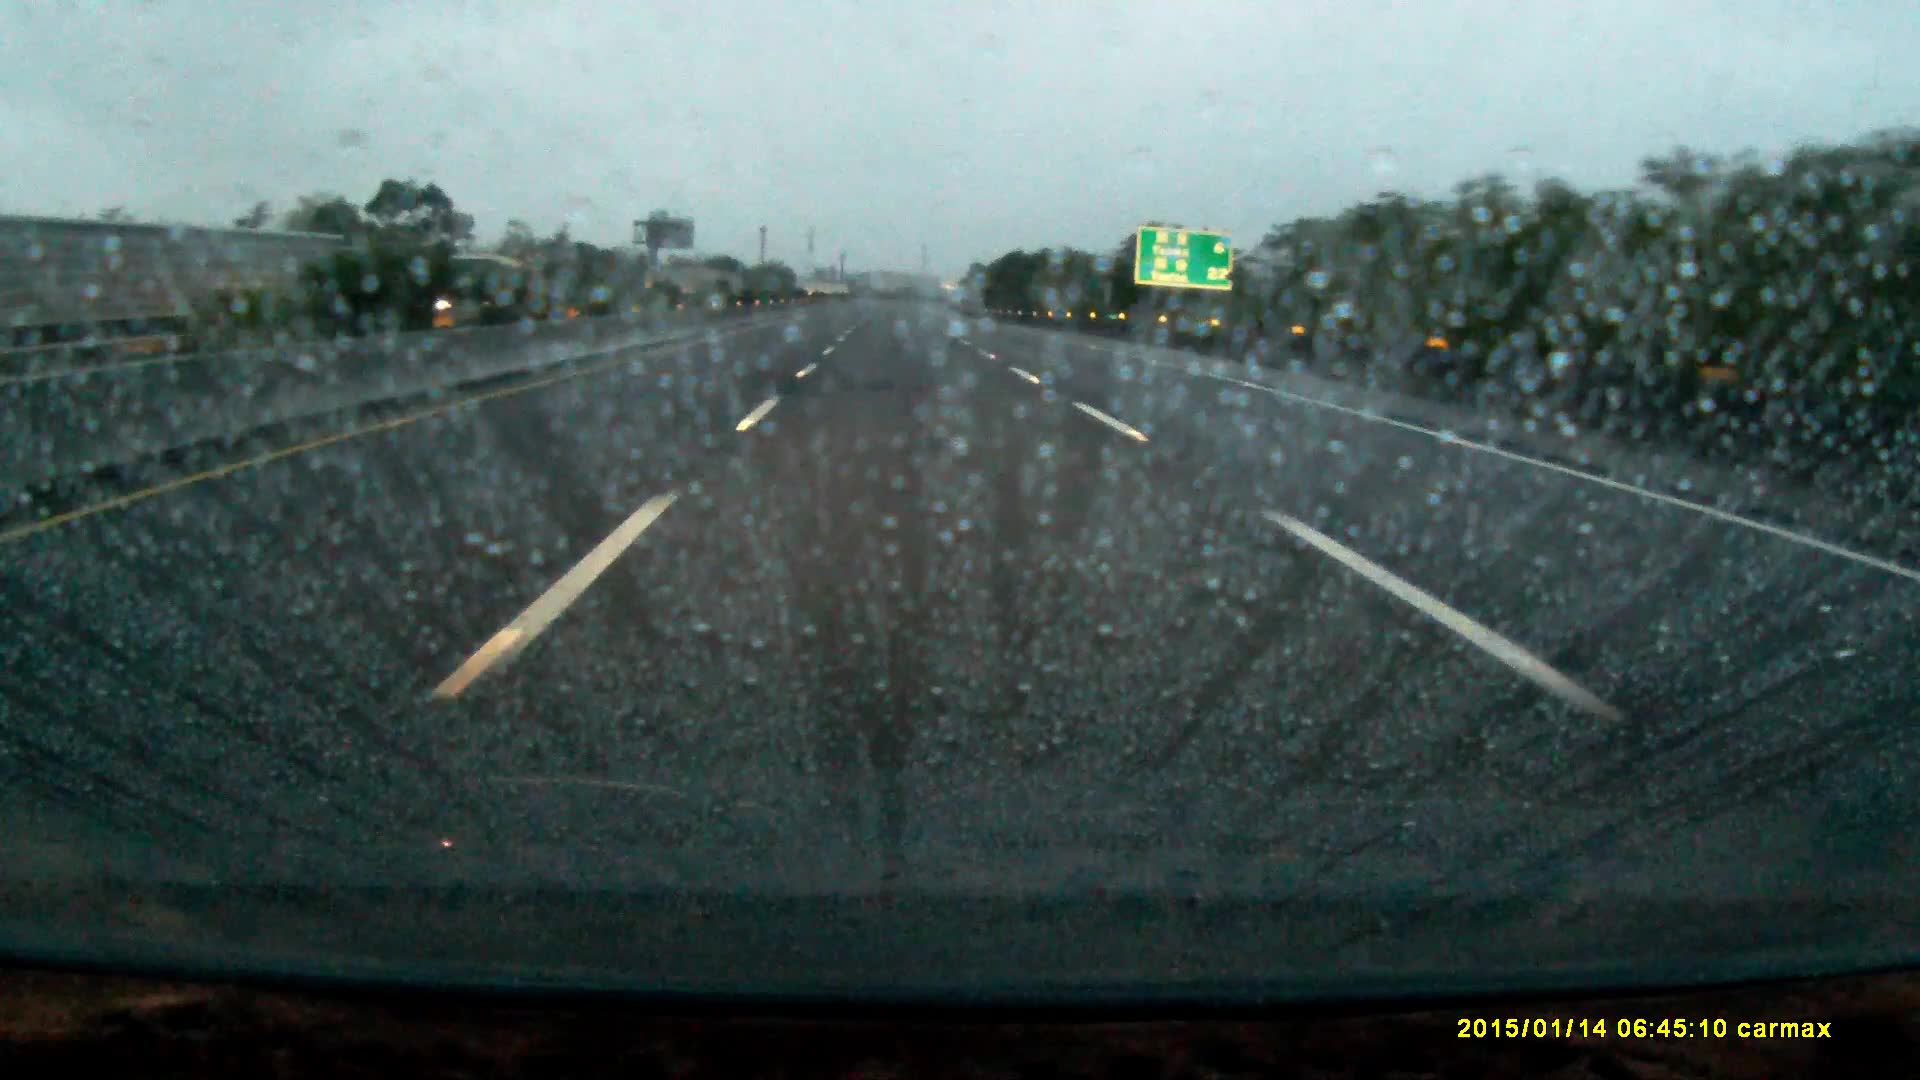vehicle: (440, 255, 550, 314)
